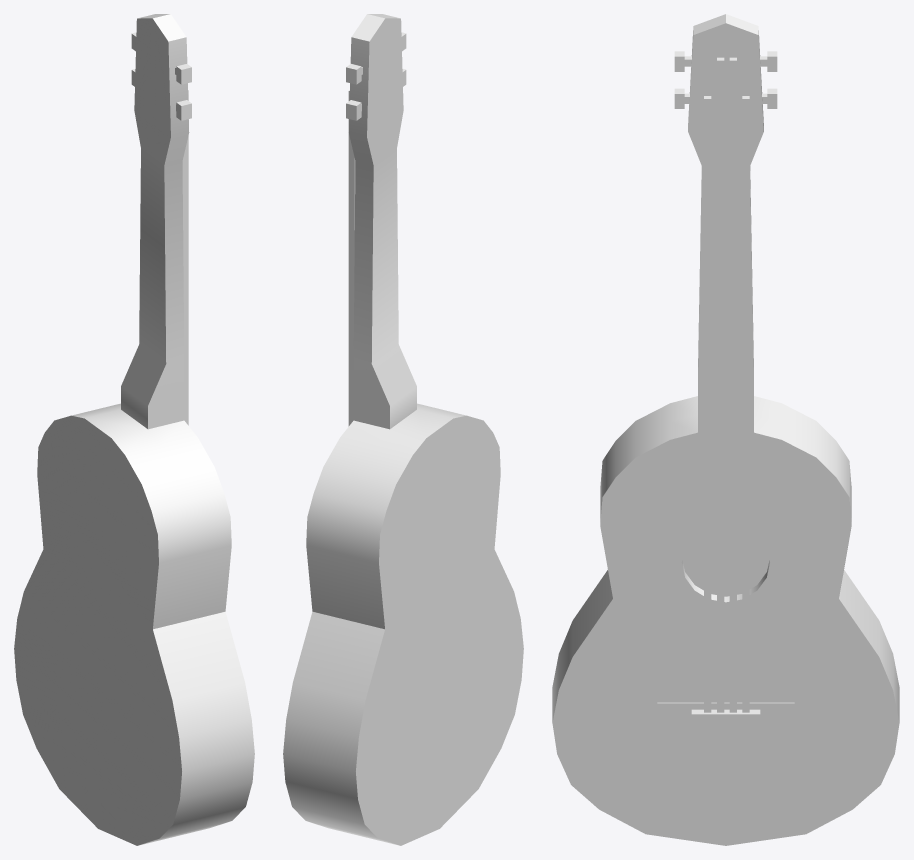
Rendered from guitar.fbx.
3 renders of one model, left to right at view 1: azimuth 30°, elevation 25°; view 2: azimuth 150°, elevation 25°; view 3: azimuth 270°, elevation 25°, orthographic. The views are drawn at different scales.
Visible parts, largest first — view 1: guitar; view 2: guitar; view 3: guitar.
Part boxes in pixels (x1,y1,x2,y2): guitar: (14,14,254,845); guitar: (283,14,523,845); guitar: (552,14,899,845).
Size of the model in its own units: 1.71 by 15.64 by 5.98.
Materials: 1 (1 with a texture image).
